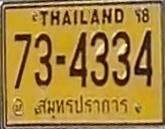3: (111, 31, 130, 86), (90, 31, 108, 86), (34, 33, 52, 86)
4: (133, 29, 152, 86), (68, 31, 87, 86)
7: (14, 33, 31, 88)
SPK: (34, 93, 132, 121)
